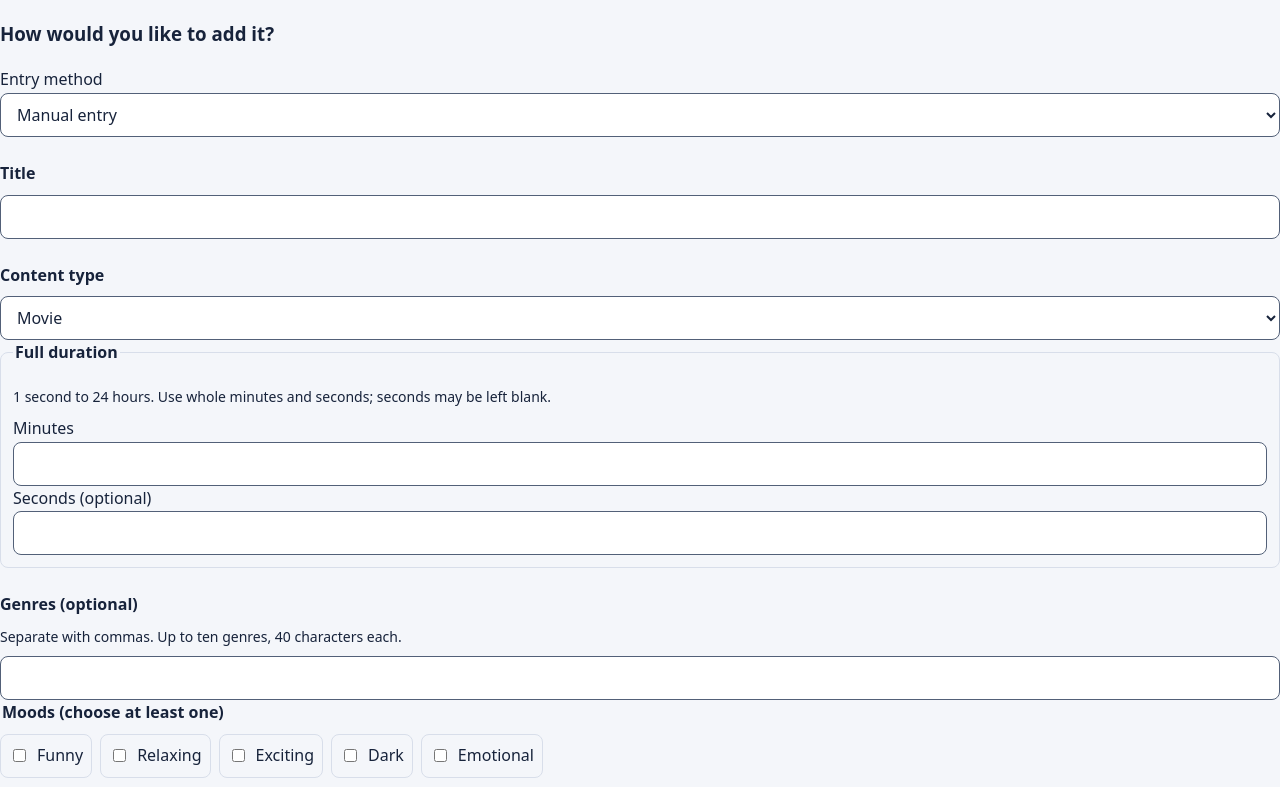
it: clean direct link fills all supported fields immediately, keeps manually selected moods and never saves
Click the checkbox labelled "Funny": (20, 756) [13, 749, 26, 762]
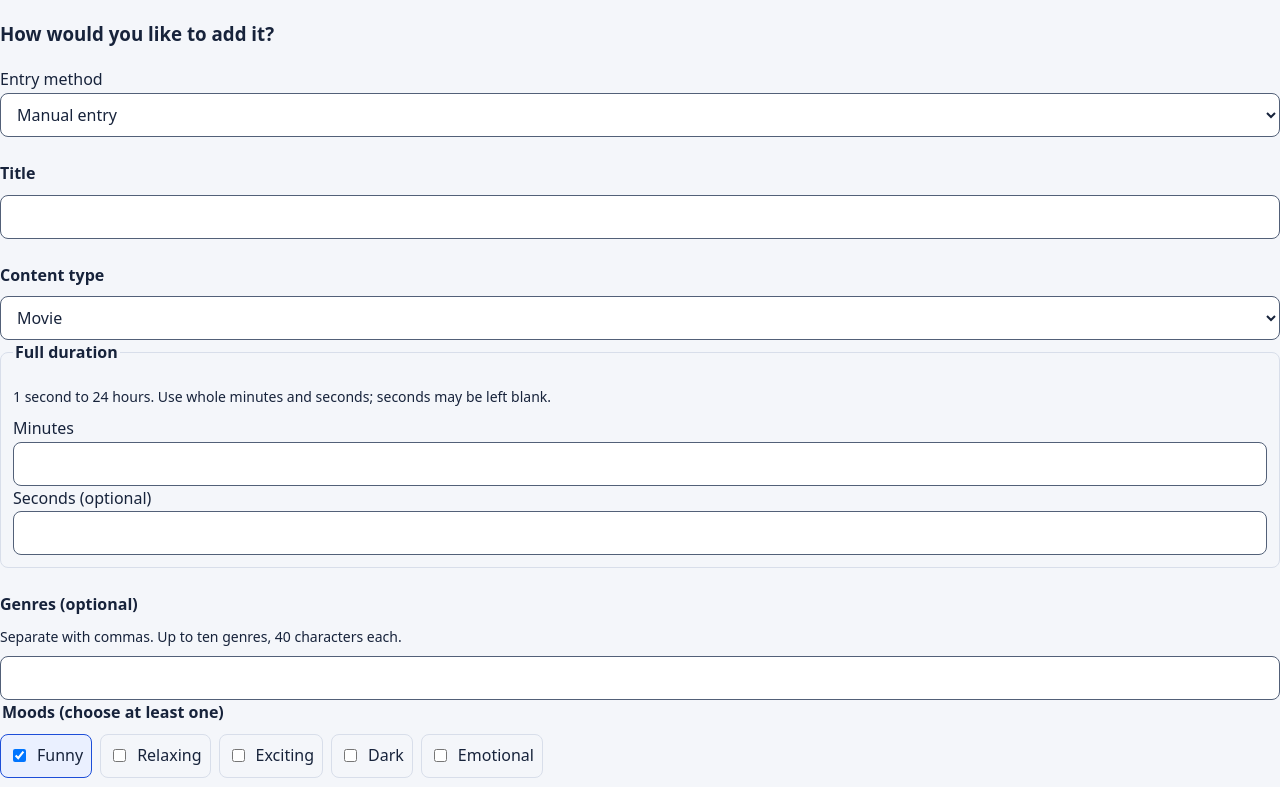
Select "YouTube" in the dropdown labelled "Entry method": (640, 115) [0, 93, 1279, 137]
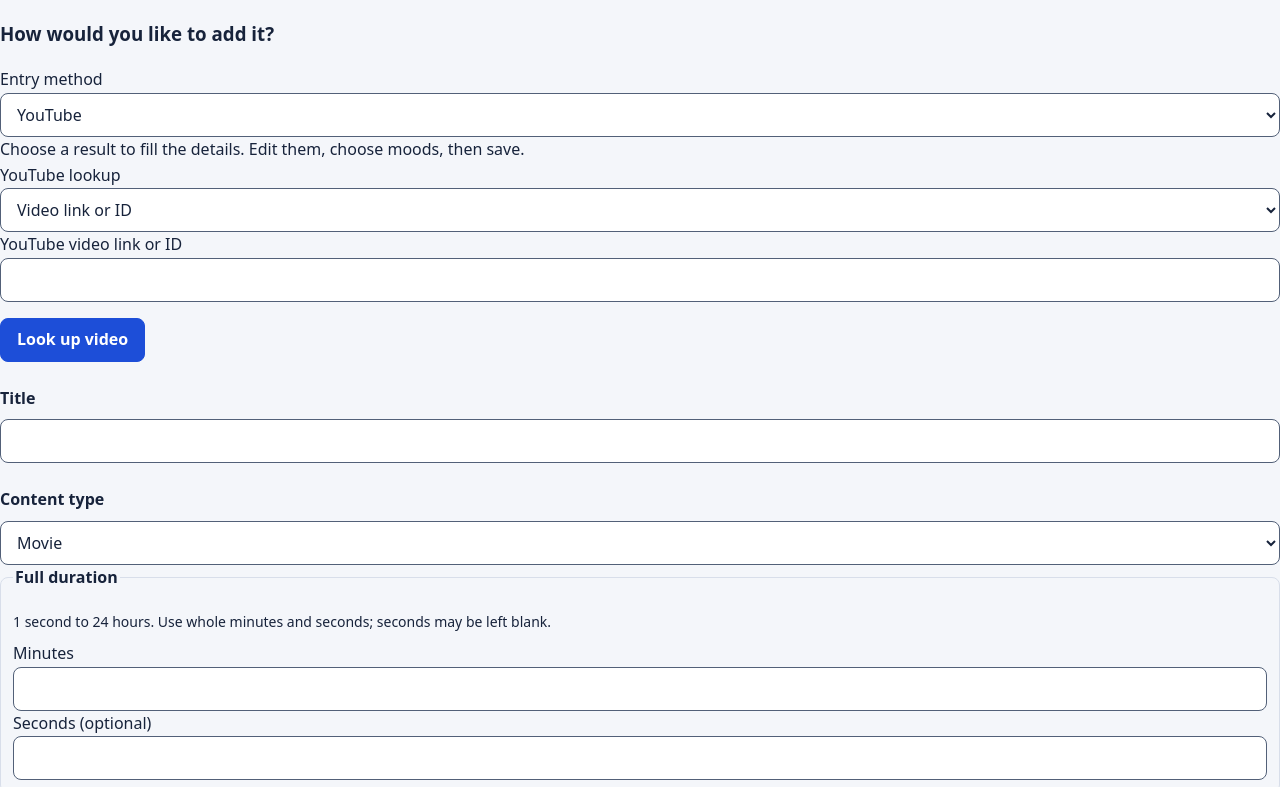
Click the button "Look up video": (73, 340) [0, 318, 145, 362]
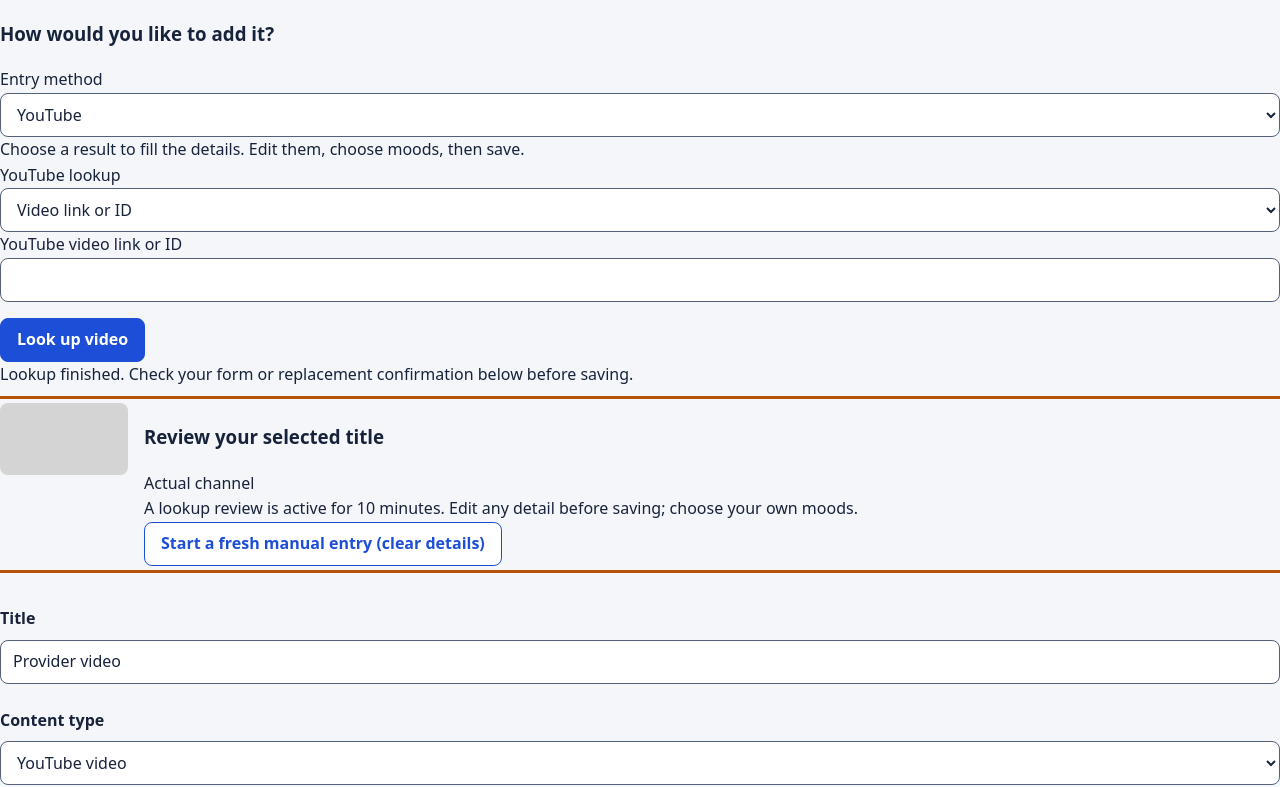
Now the field labelled "Title" holds "Provider video", box [0, 640, 1279, 684]
Now the text "Actual channel" is shown, box [144, 472, 254, 494]
